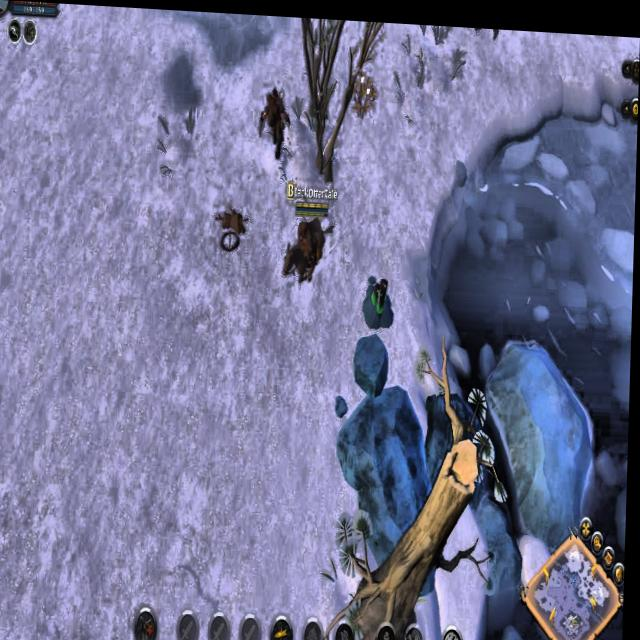tinore: (362, 265, 400, 326)
